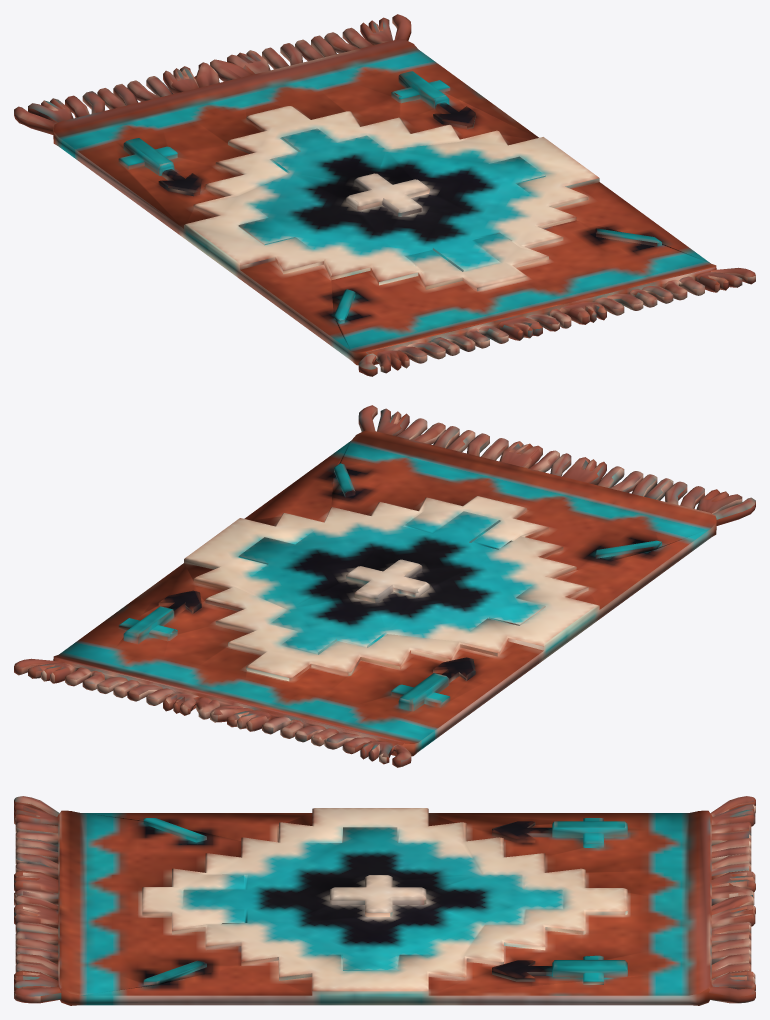
Rendered from karpet_model.fbx.
3 views of the same model, one above another, from view 1: azimuth 30°, elevation 25°; view 2: azimuth 150°, elevation 25°; view 3: azimuth 270°, elevation 25° (orthographic). The views are drawn at different scales.
Parts seen in each view (by area): view 1: mesh_rep_0_ori_repair_quad_0; view 2: mesh_rep_0_ori_repair_quad_0; view 3: mesh_rep_0_ori_repair_quad_0.
Part boxes in pixels (<box>): mesh_rep_0_ori_repair_quad_0: <box>14,14,755,376</box>; mesh_rep_0_ori_repair_quad_0: <box>14,405,755,767</box>; mesh_rep_0_ori_repair_quad_0: <box>14,796,755,1005</box>.
Bounding box in the file's own units: 64.64 × 3.36 × 102.
Materials: 1 (1 with a texture image).
